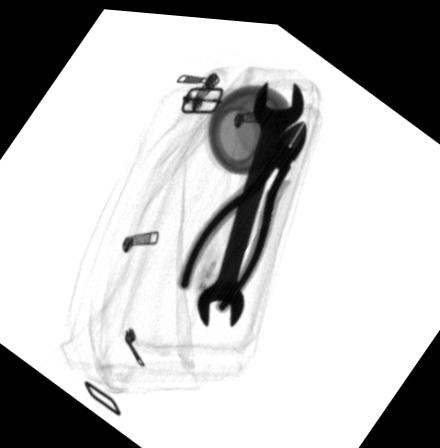Pliers: (175, 116, 309, 308)
Wrench: (197, 72, 304, 323)
